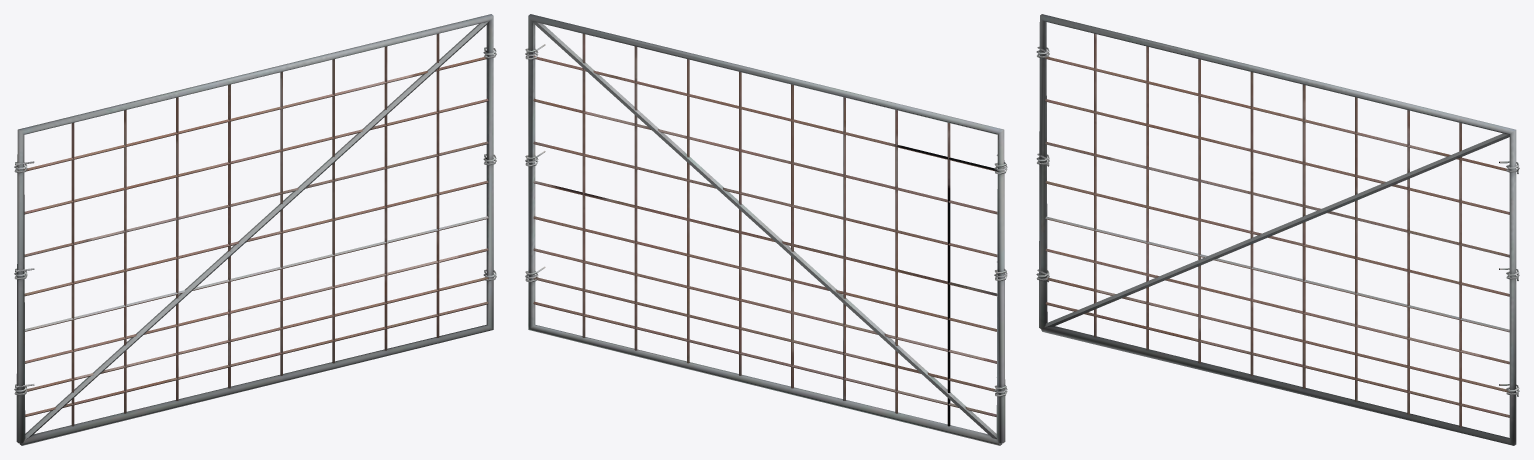
Rendered from pen_fence_panel.glb.
The picture shows the model from 3 angles, left to right: view 1: azimuth 30°, elevation 25°; view 2: azimuth 150°, elevation 25°; view 3: azimuth 330°, elevation 25°; orthographic projection.
Parts seen in each view (by area): view 1: pen_fence_panel; view 2: pen_fence_panel; view 3: pen_fence_panel.
Part boxes in pixels (x1,y1,x2,y2): pen_fence_panel: (14,14,496,445); pen_fence_panel: (525,14,1007,445); pen_fence_panel: (1036,14,1519,445).
Size of the model in its own units: 2.83 by 1.77 by 0.0884.
Materials: 1 (1 with a texture image).
